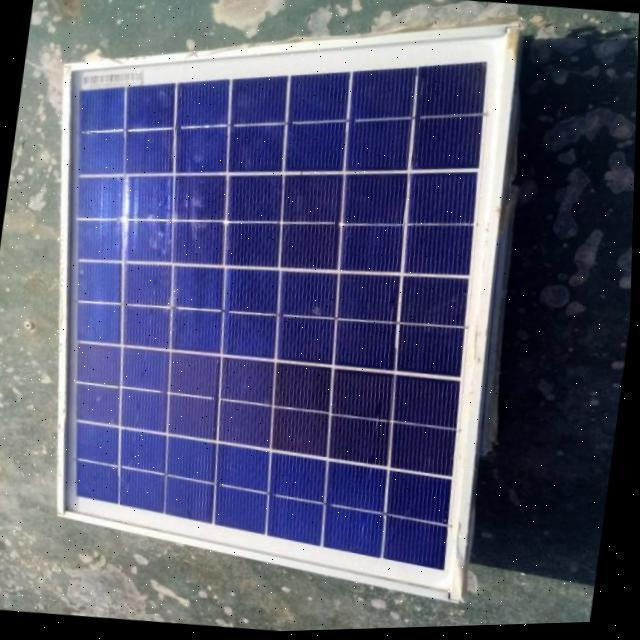Normal Solar Panel: (1, 0, 534, 614)
